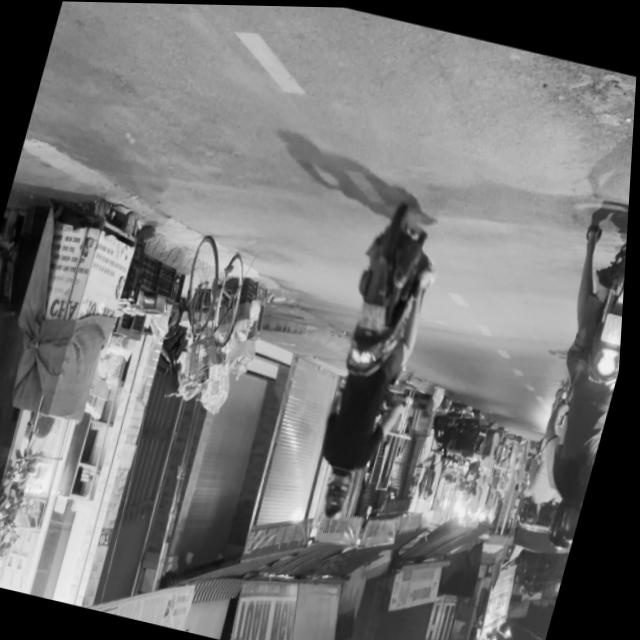helmet: (321, 468, 358, 519), (557, 492, 589, 543)
licenseplate: (297, 195, 456, 527), (506, 201, 631, 554)
nohelmet: (358, 300, 388, 330), (601, 311, 626, 344)
